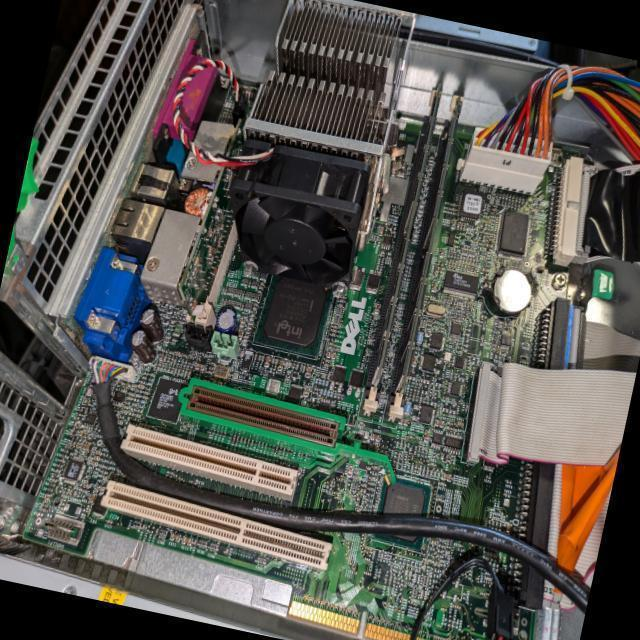CPU_Fan: (210, 0, 424, 303)
Mainboard: (15, 49, 638, 640)
RAM: (388, 95, 468, 398), (369, 82, 443, 392)
